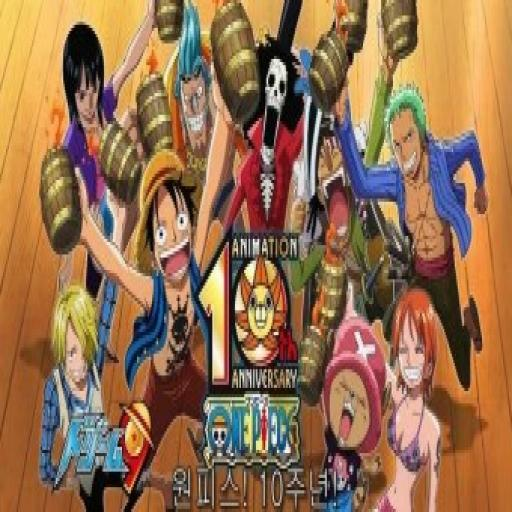Luffy: (124, 143, 200, 300)
Nami: (387, 288, 436, 406)
NicoRobin: (59, 9, 110, 138)
Usopp: (312, 115, 355, 244)
Zoro: (384, 87, 430, 197)
sanji: (48, 279, 103, 388)
